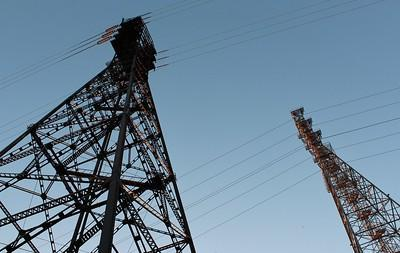power_tower: (0, 13, 207, 253), (286, 102, 400, 253)
